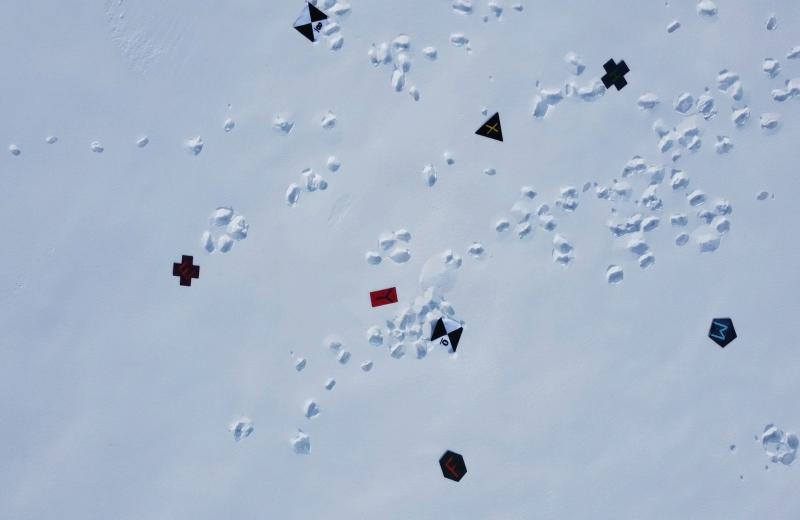Cross: (167, 249, 203, 291), (595, 56, 631, 96)
Hexagon: (430, 450, 472, 486)
Pentagon: (704, 311, 740, 351)
Rectangle: (364, 285, 403, 309)
Triangle: (471, 109, 507, 148)
